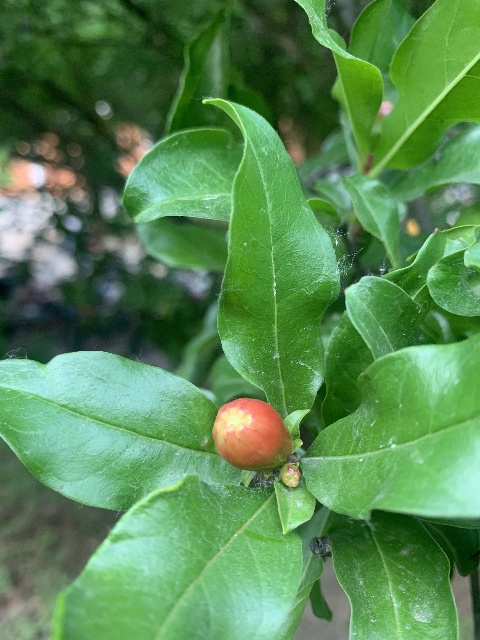bud: (212, 398, 291, 471)
